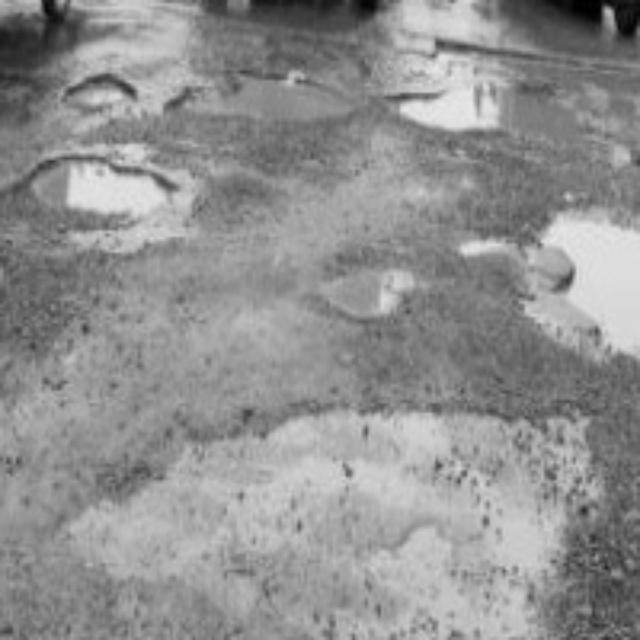Pothole: (550, 192, 640, 350), (199, 54, 313, 132), (28, 149, 176, 206), (396, 78, 488, 138), (346, 257, 412, 317), (61, 70, 136, 110)
Surface Erosion: (5, 274, 640, 640)
